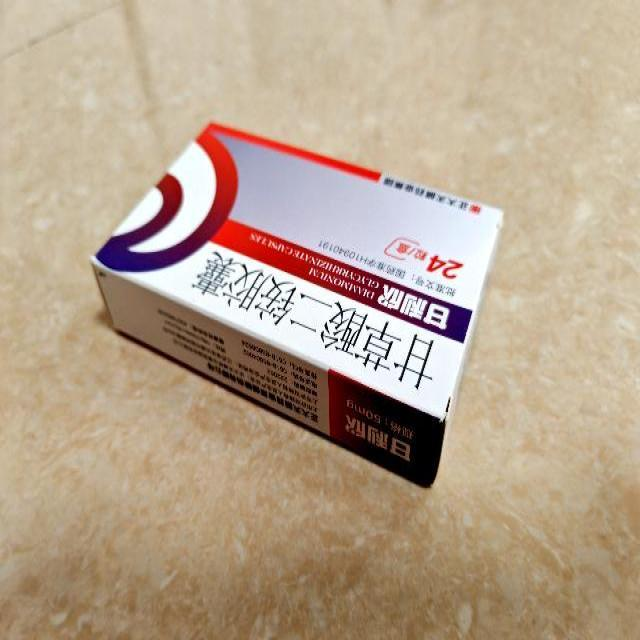box: (89, 121, 505, 487)
